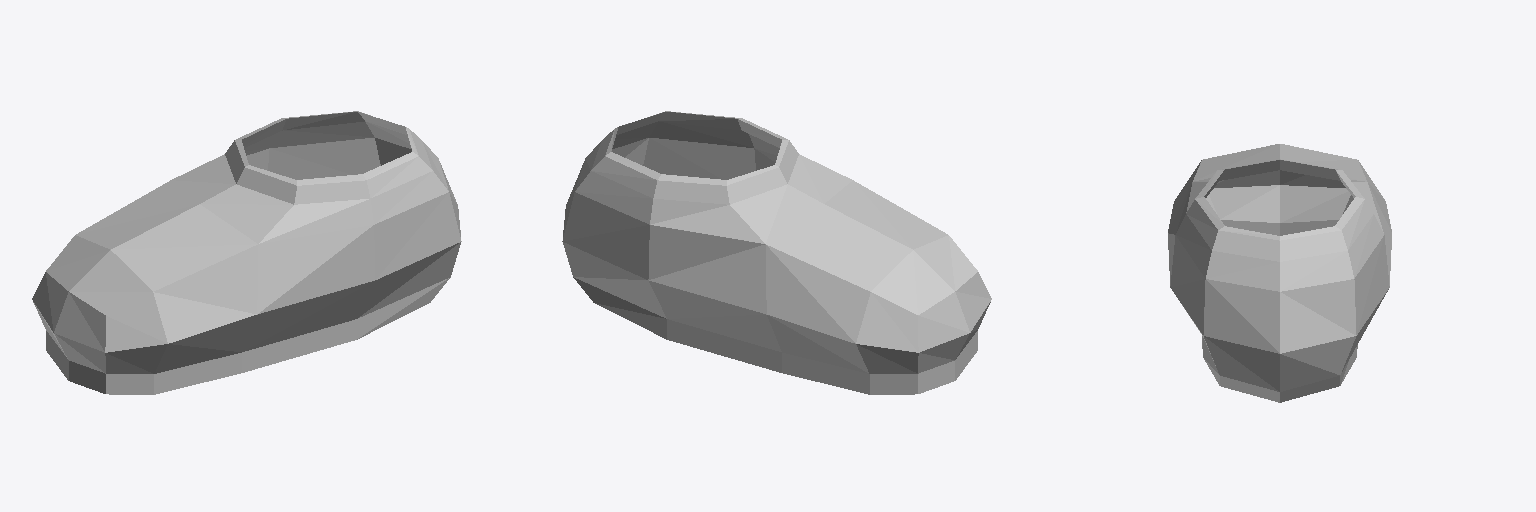
File: Shoe.obj
The picture shows the model from 3 angles: view 1: azimuth 30°, elevation 25°; view 2: azimuth 150°, elevation 25°; view 3: azimuth 270°, elevation 25°; orthographic projection.
Visible parts, largest first — view 1: Shoe; view 2: Shoe; view 3: Shoe.
Boxes of the visible parts, x1=… form: Shoe: x1=32, y1=111, x2=461, y2=394; Shoe: x1=562, y1=111, x2=991, y2=394; Shoe: x1=1168, y1=144, x2=1391, y2=402.
Bounding box in the file's own units: 5.42 × 2.38 × 2.61.